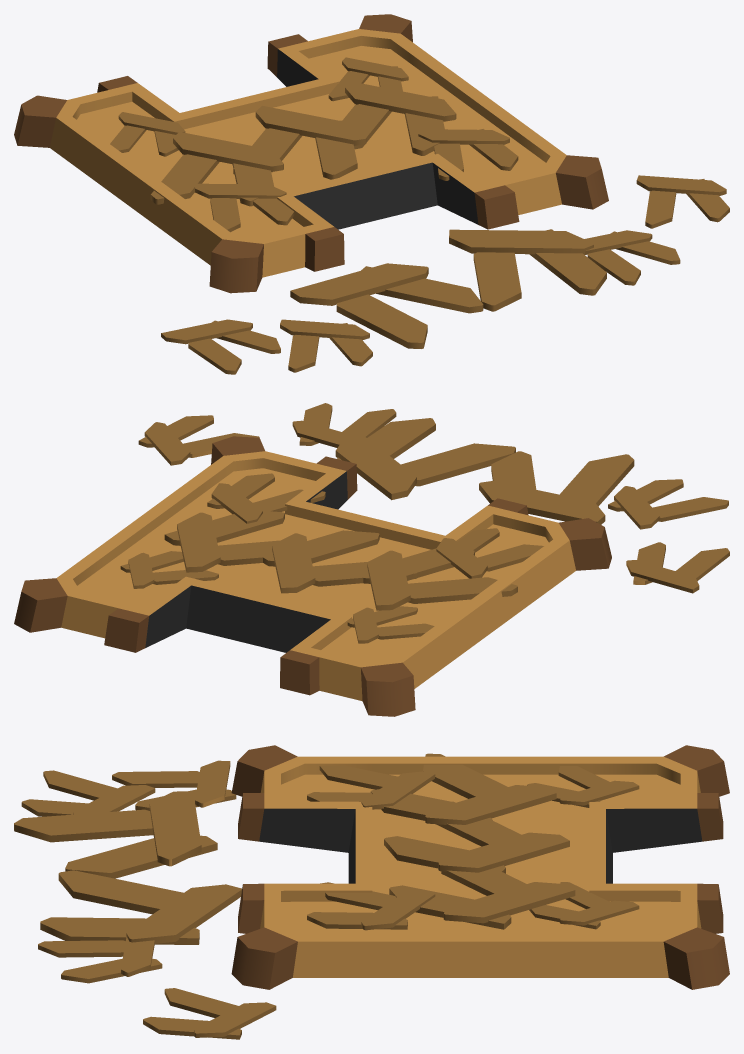
File: AR TOWER  L_1 D3.fbx
The picture shows the model from 3 angles, top to bottom: view 1: azimuth 30°, elevation 25°; view 2: azimuth 150°, elevation 25°; view 3: azimuth 270°, elevation 25°; orthographic projection. The views are drawn at different scales.
Parts seen in each view (by area): view 1: Cube.215; view 2: Cube.215; view 3: Cube.215.
Part boxes in pixels (x1,y1,x2,y2): Cube.215: (14, 14, 729, 374); Cube.215: (14, 403, 729, 716); Cube.215: (14, 745, 729, 1039).
Size of the model in its own units: 878 by 90.25 by 898.
